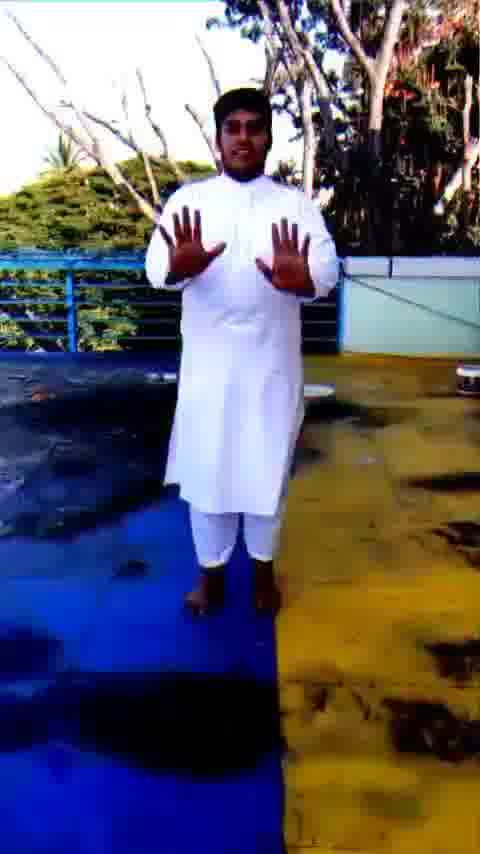duck: (140, 82, 332, 626)
